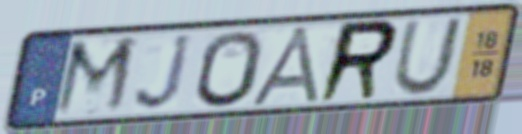A: (245, 23, 327, 108)
J: (131, 31, 196, 113)
M: (49, 34, 142, 120)
O: (193, 28, 266, 110)
R: (313, 17, 402, 107)
U: (389, 14, 467, 98)
